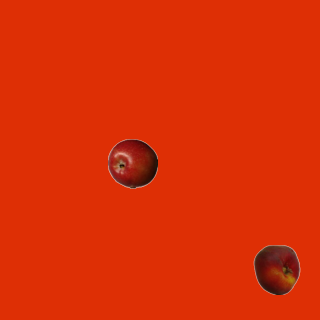Apple Braeburn: (107, 138, 157, 188)
Nectarine Flat: (251, 244, 301, 294)
